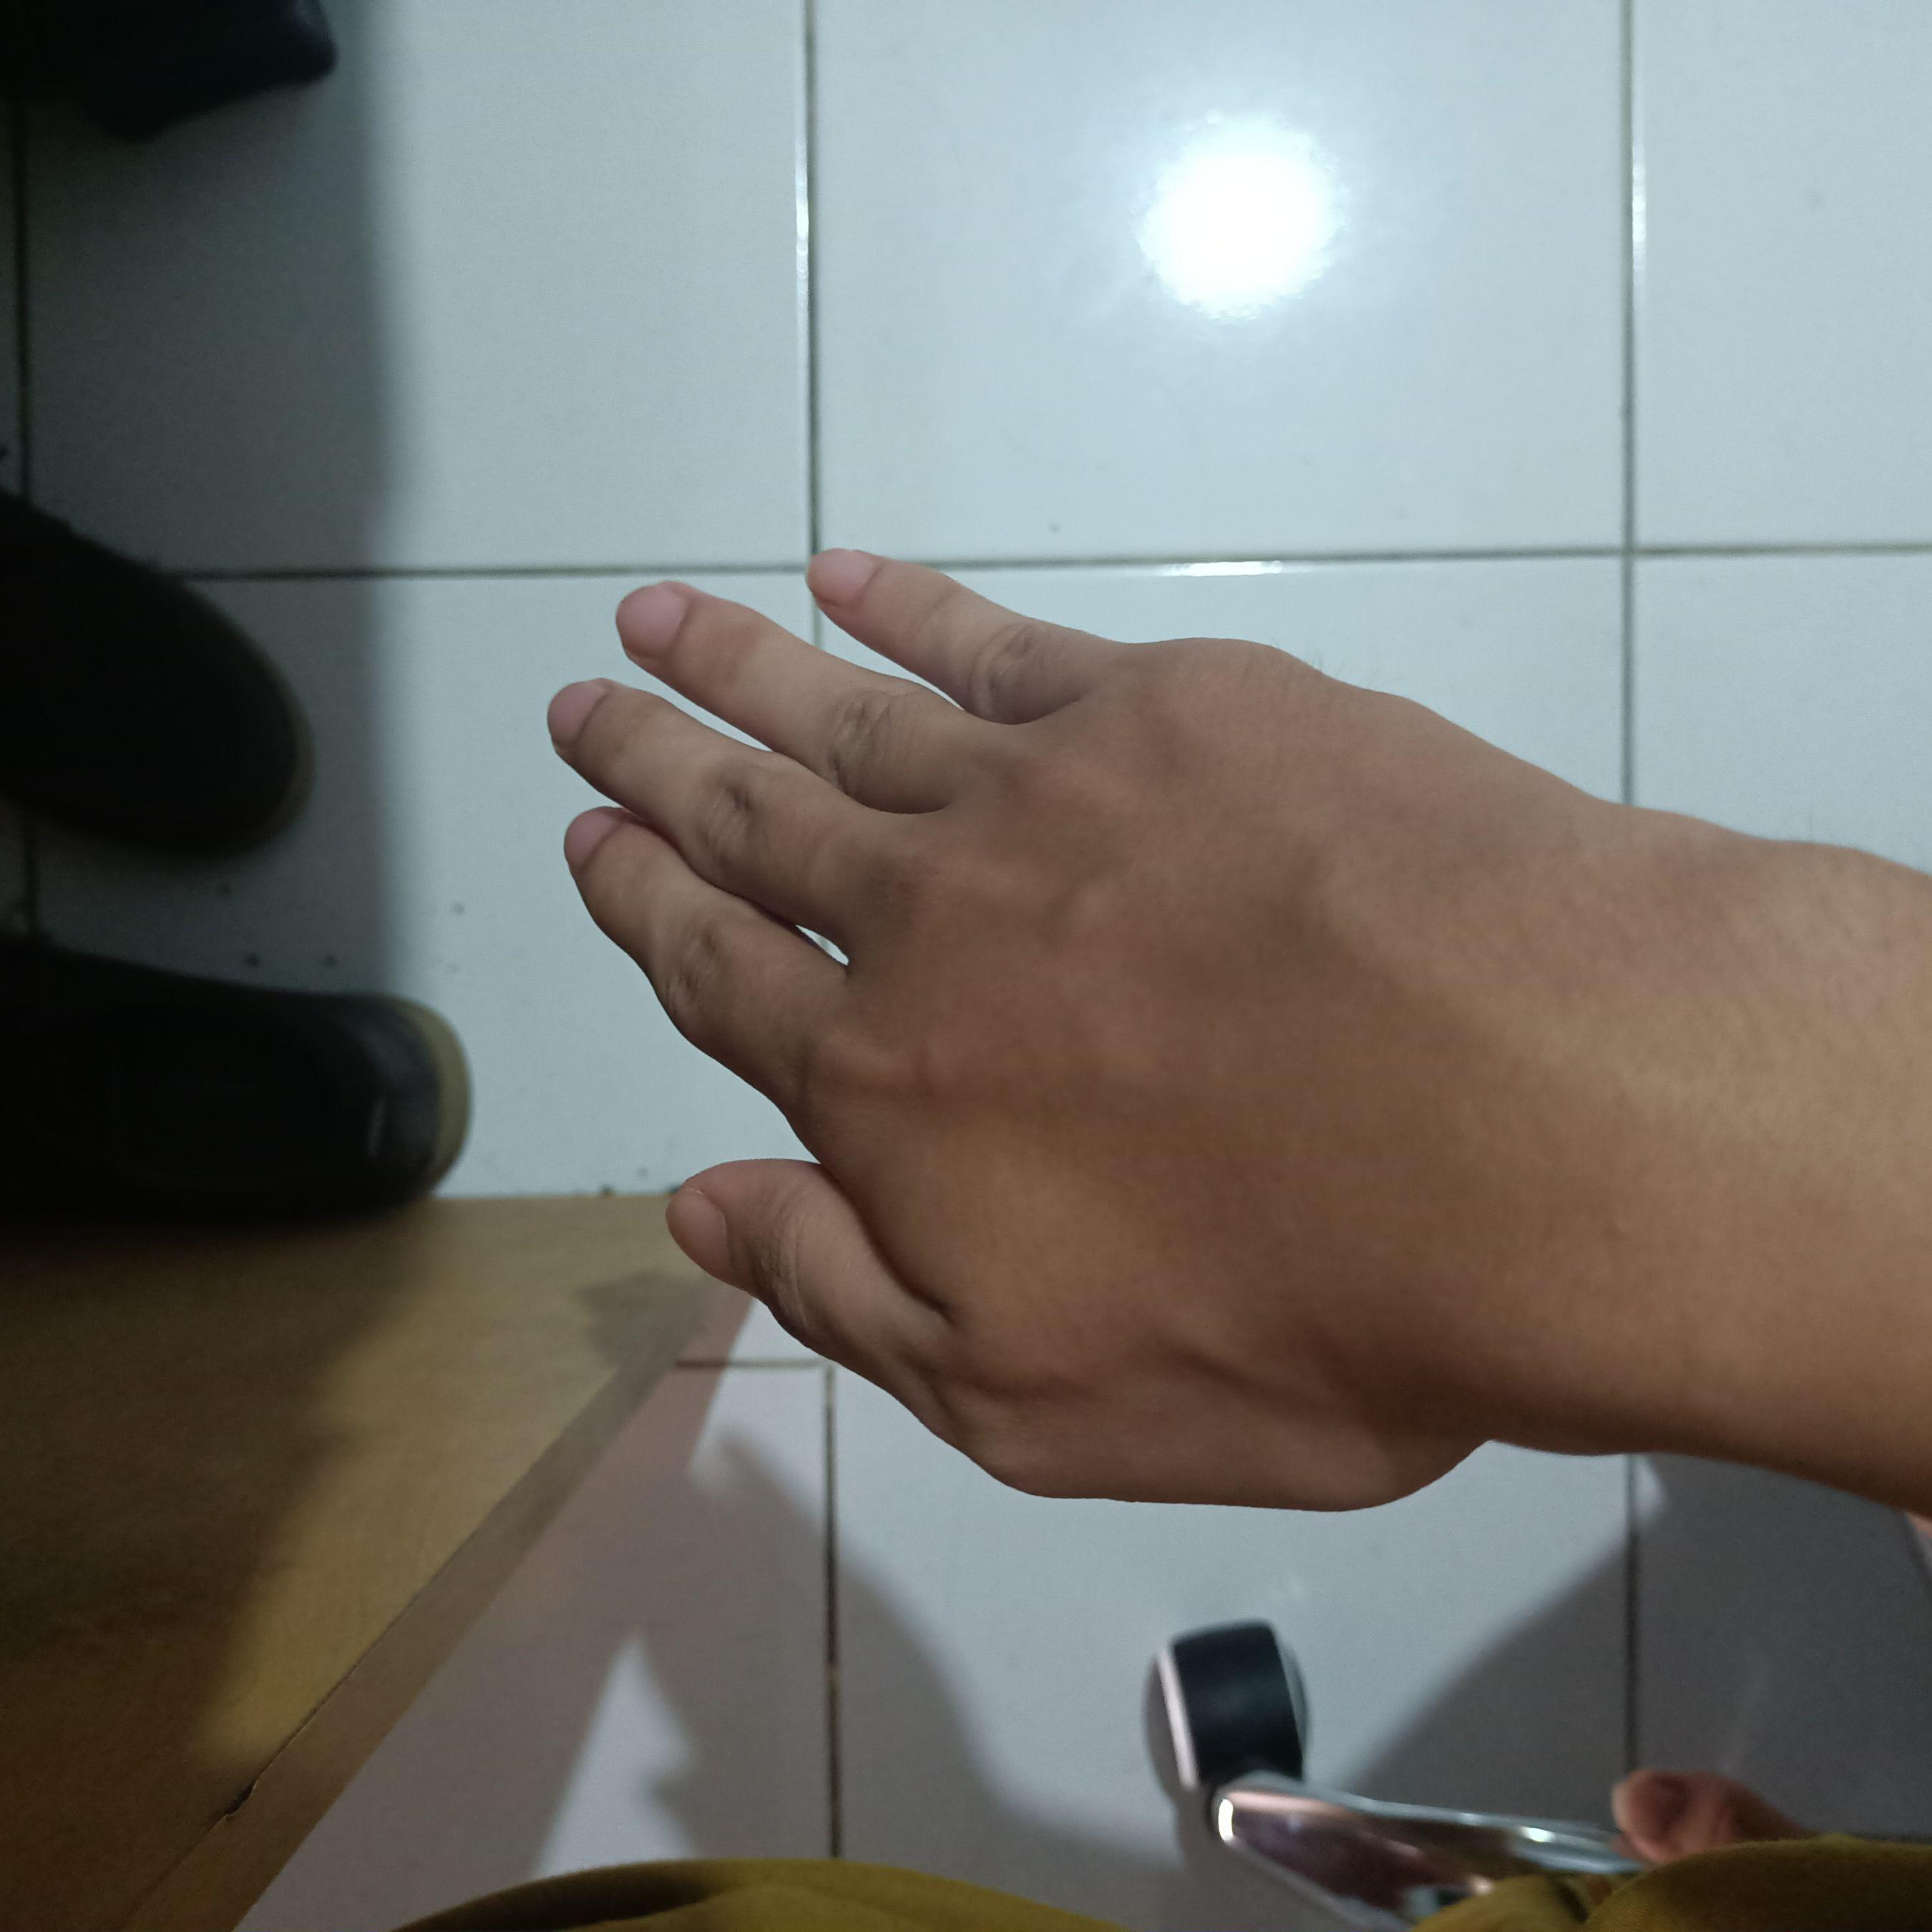paper: (511, 520, 1637, 1539)
